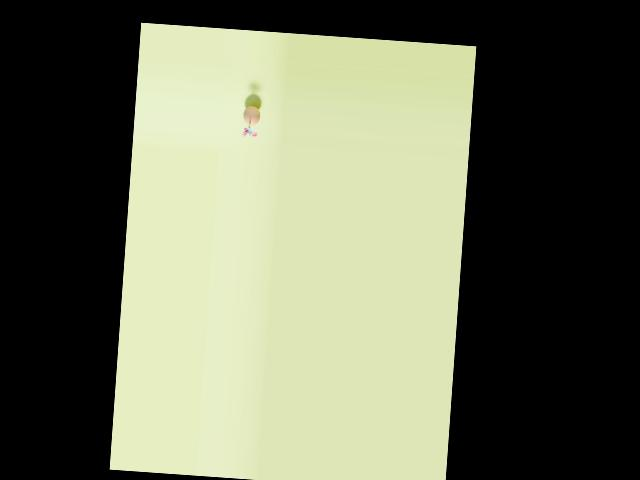egg: (242, 105, 260, 126)
